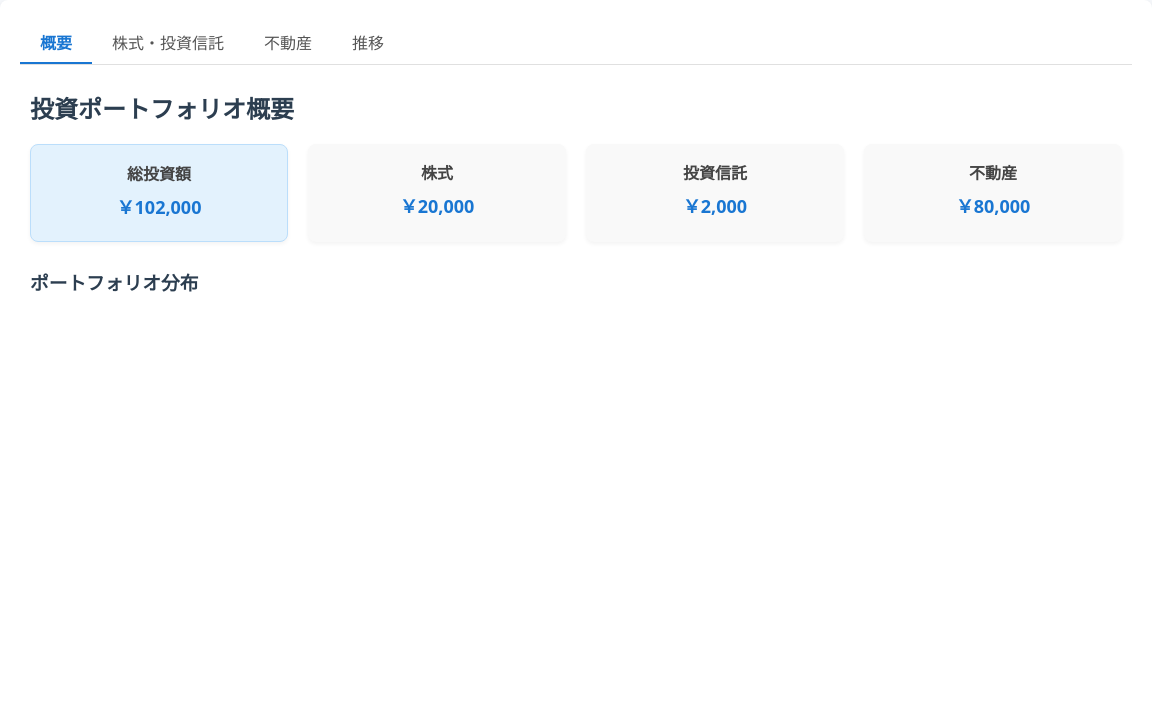
Test: InvestmentView › 不動産データがある場合に正しく表示される
// 「不動産」タブをクリック（ボタン要素に限定）
Click the button "不動産": click(288, 42) [244,20,332,64]
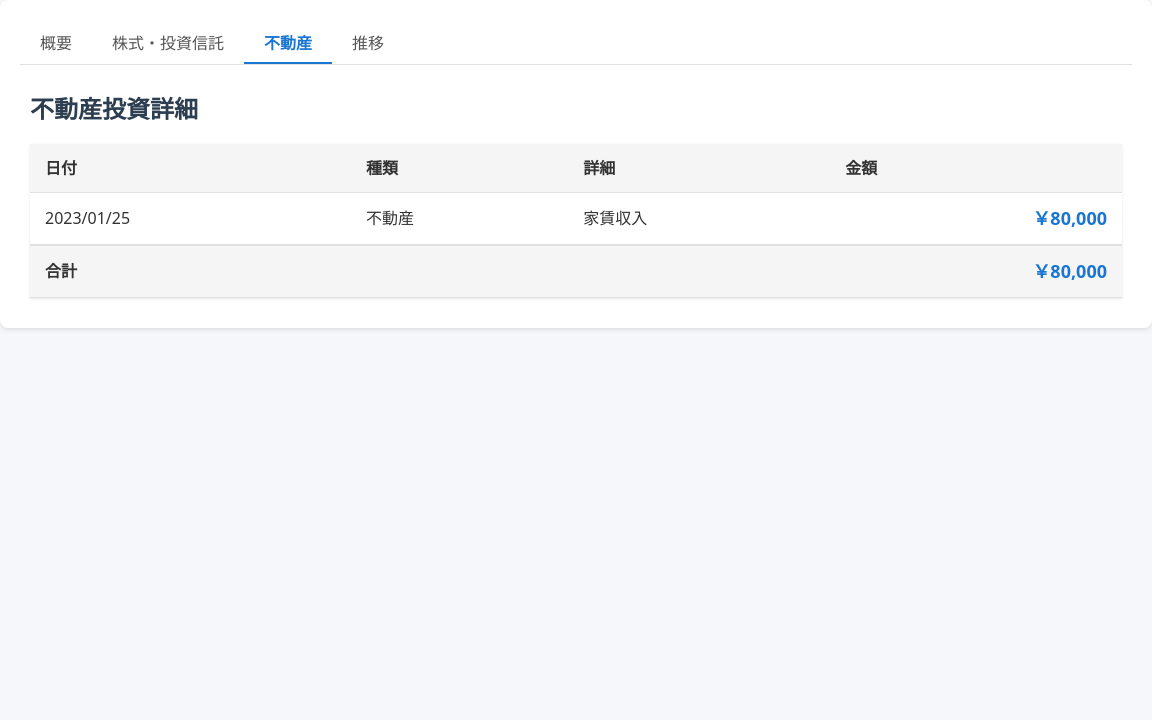
expect the heading "不動産投資詳細" is shown: met, box [30,92,198,125]
expect the text "家賃収入" is shown: met, box [568,192,830,245]
expect the text "家賃収入" shows "￥80,000": met, box [1032,206,1107,230]
